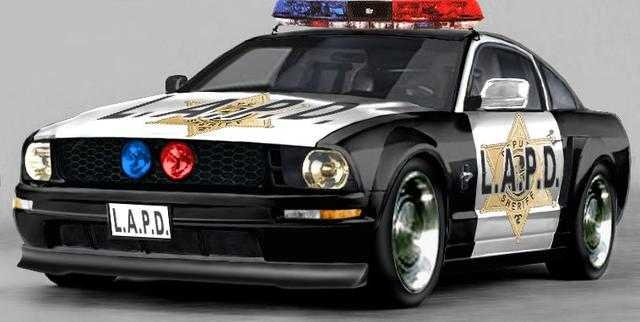Police Car: (20, 2, 633, 305)
